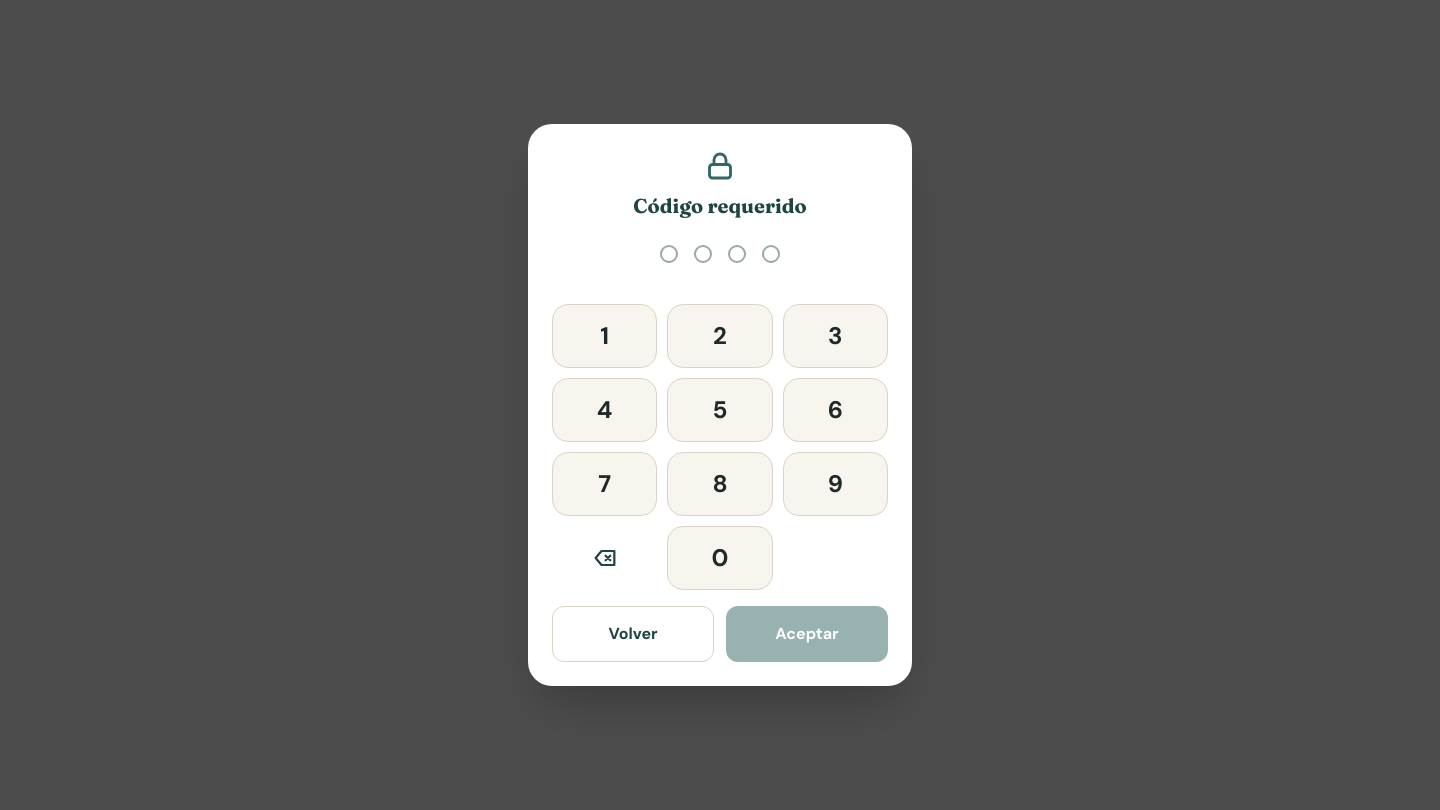
PinPad › con codigo incorrecto avisa, limpia y no confirma
Click the button "1" at (605, 336), box [552, 304, 657, 368]
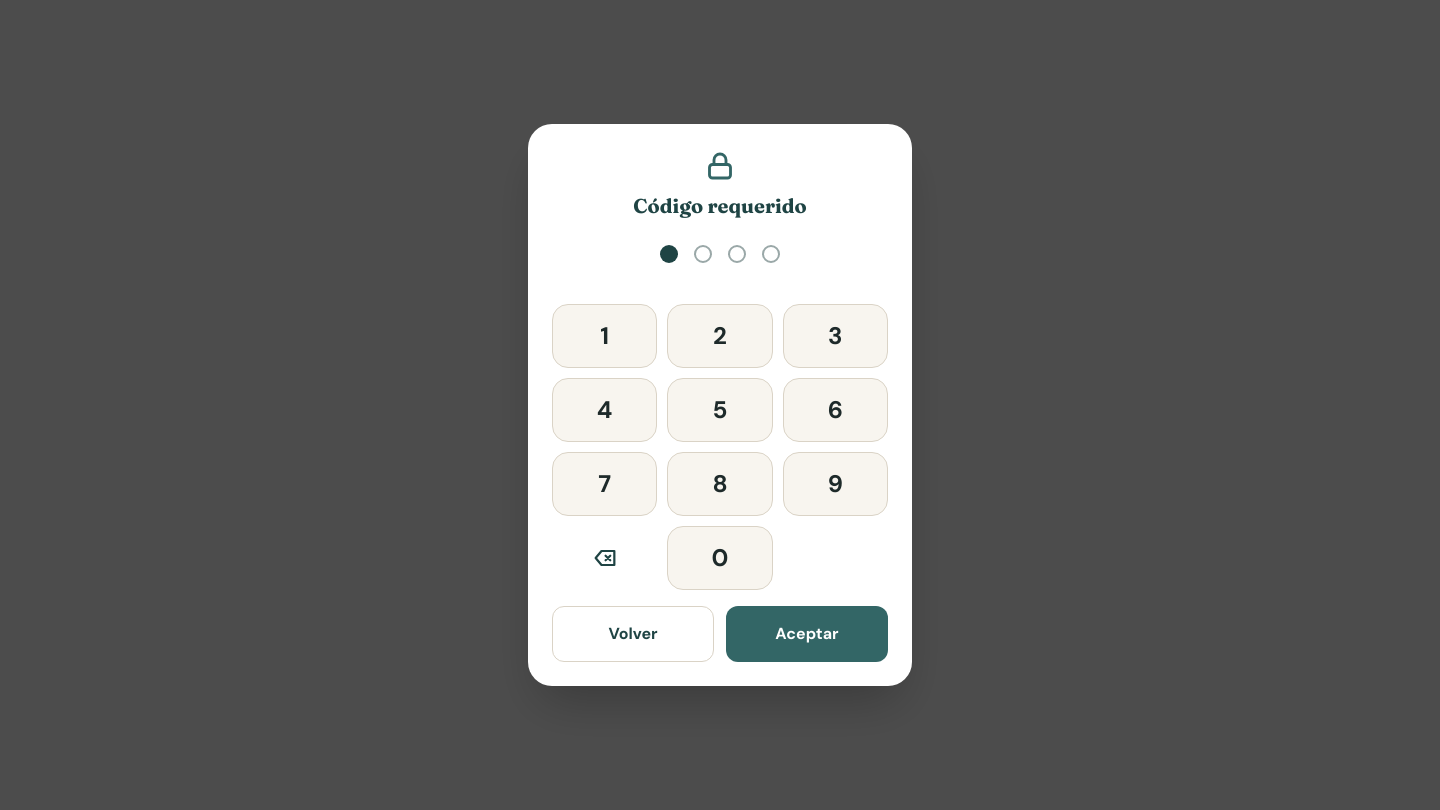
Click the button "1" at (605, 336), box [552, 304, 657, 368]
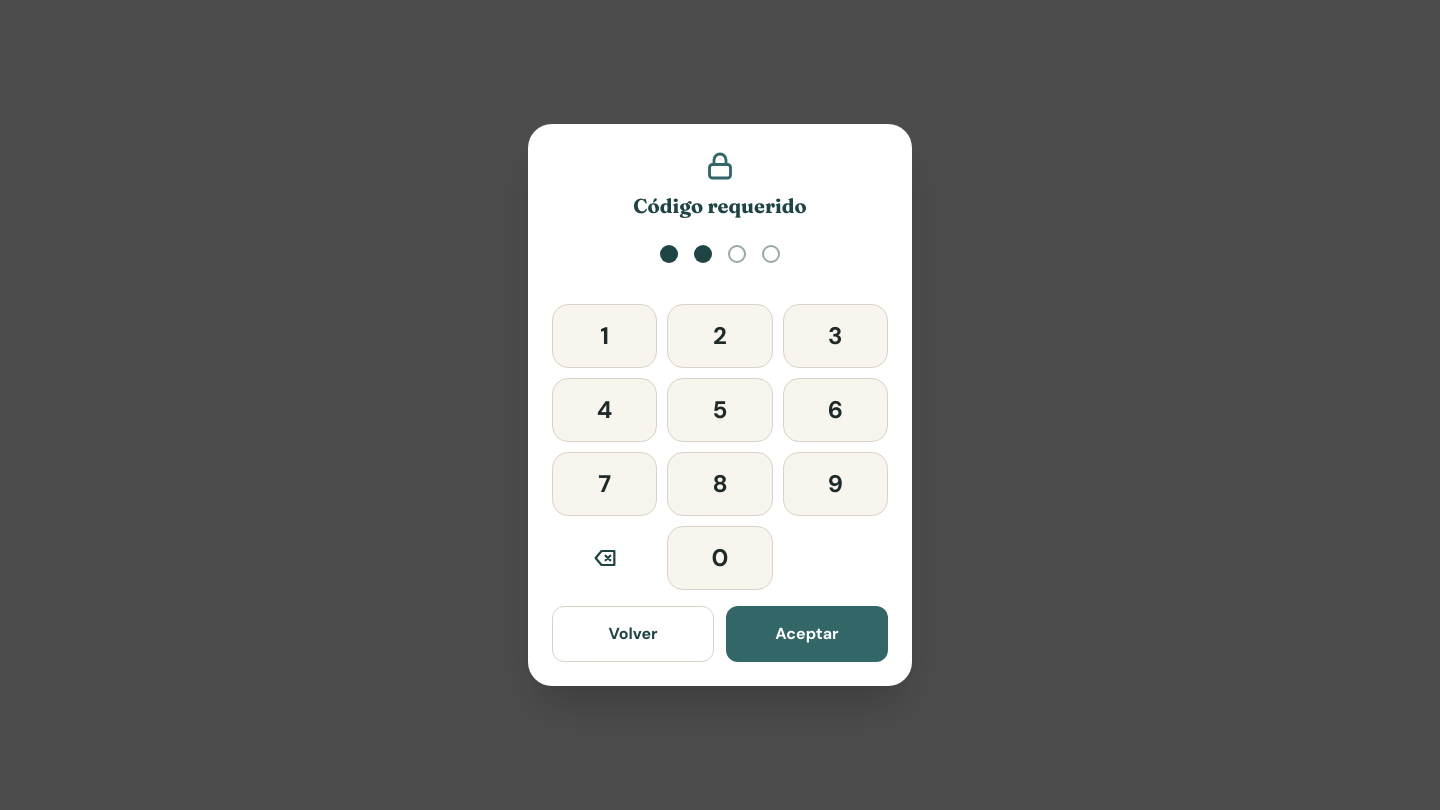
Click the button "1" at (605, 336), box [552, 304, 657, 368]
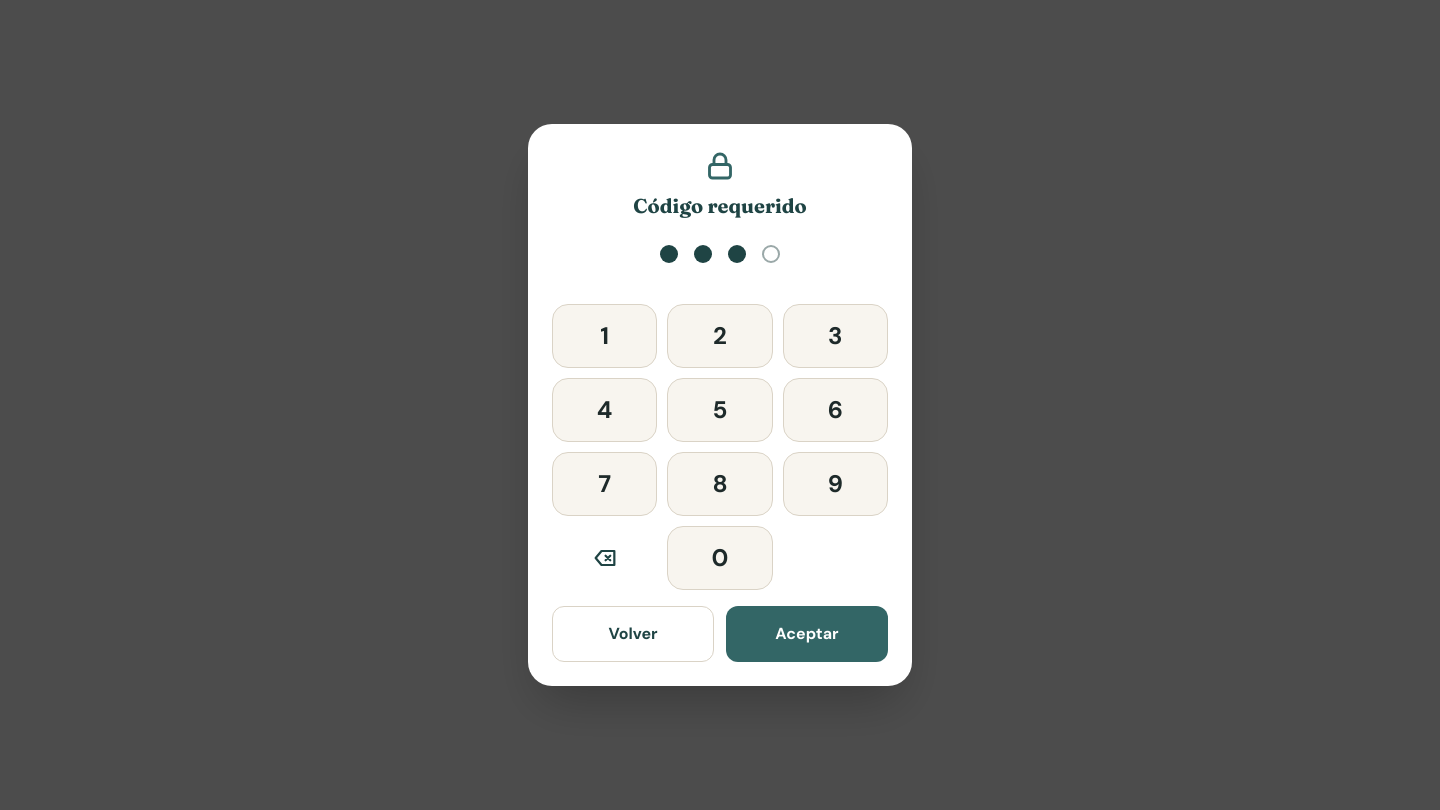
Click the button "1" at (605, 336), box [552, 304, 657, 368]
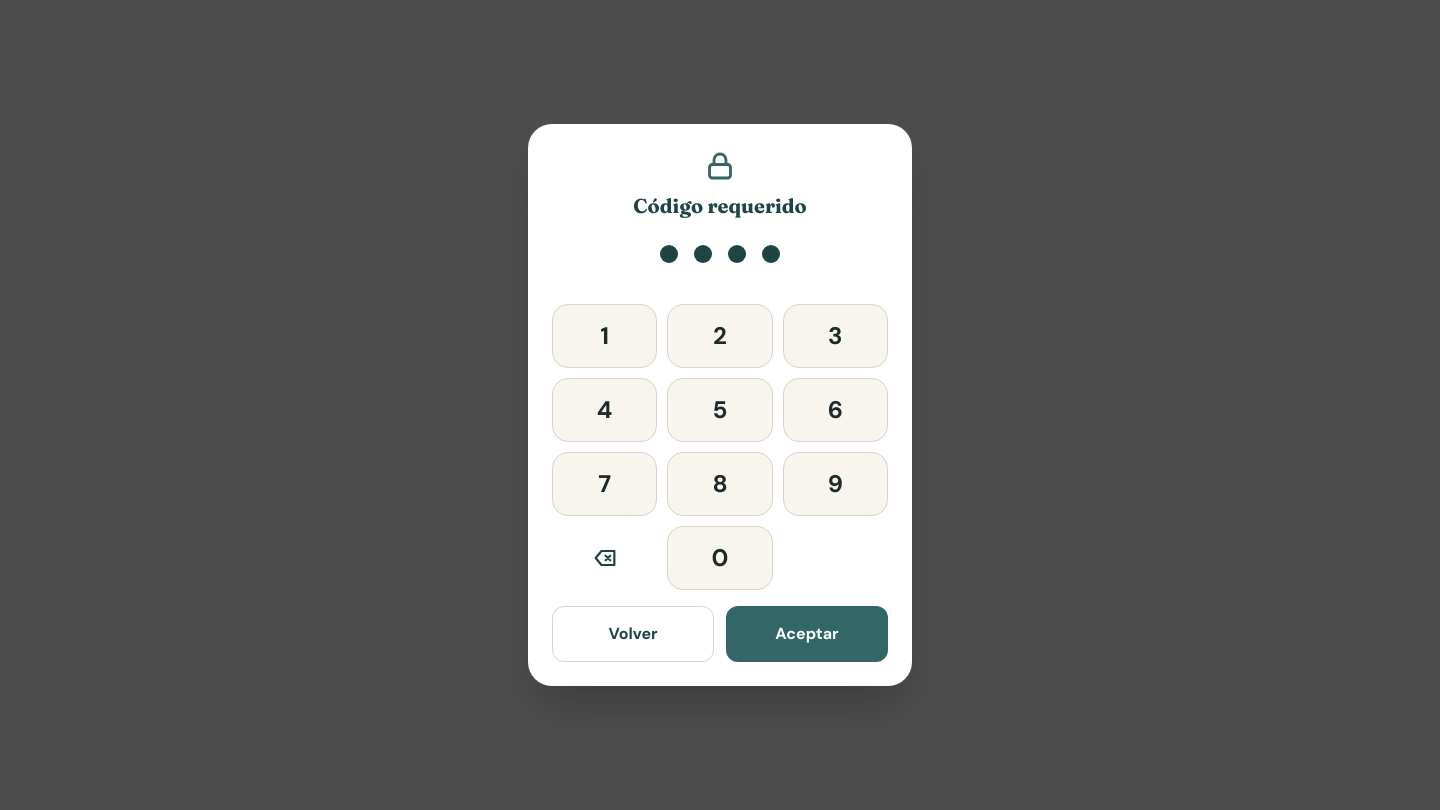
Click the button "Aceptar" at (807, 634), box [726, 606, 888, 662]
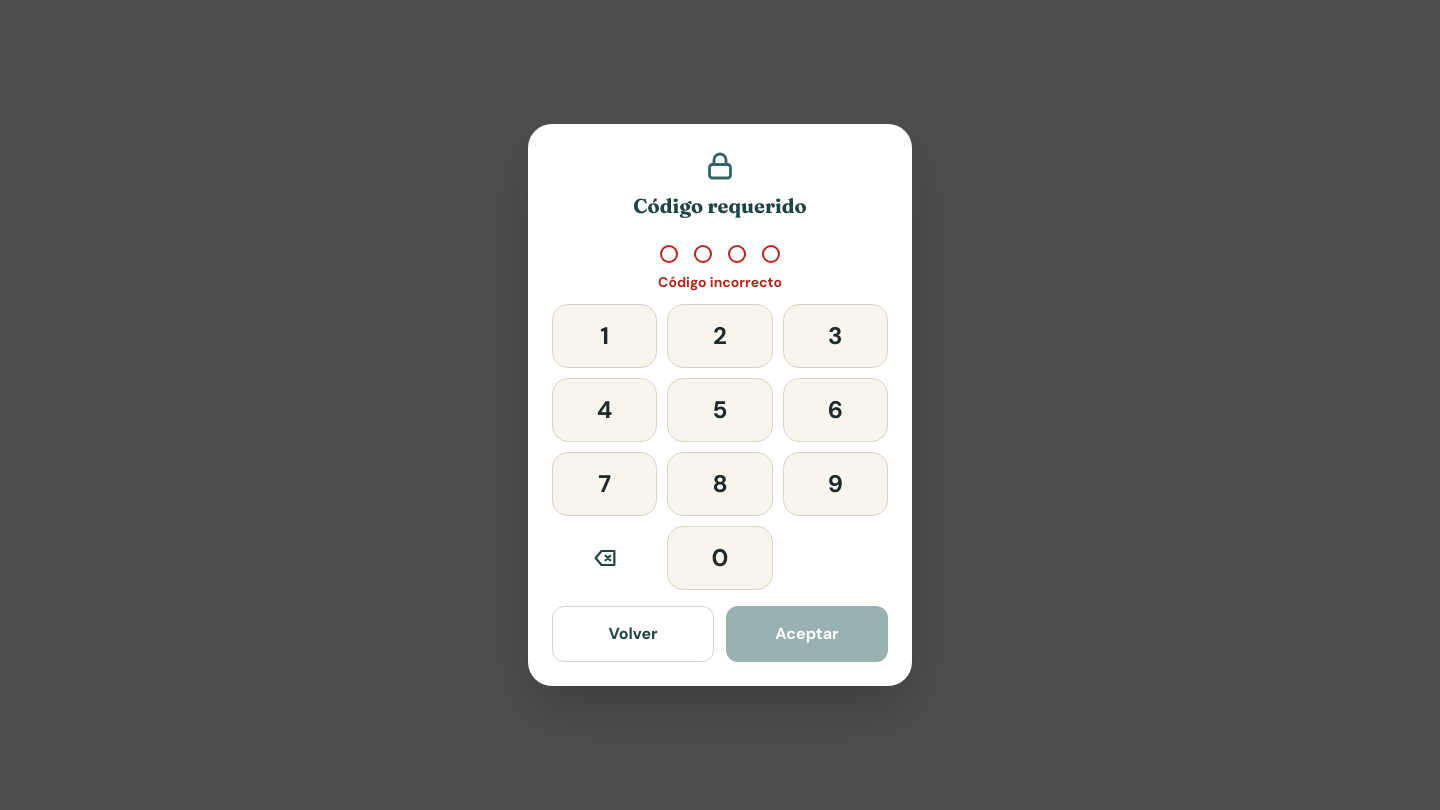
Check: the button "Aceptar" is disabled, box [726, 606, 888, 662]
